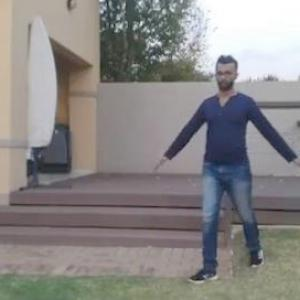land: (149, 53, 299, 285)
